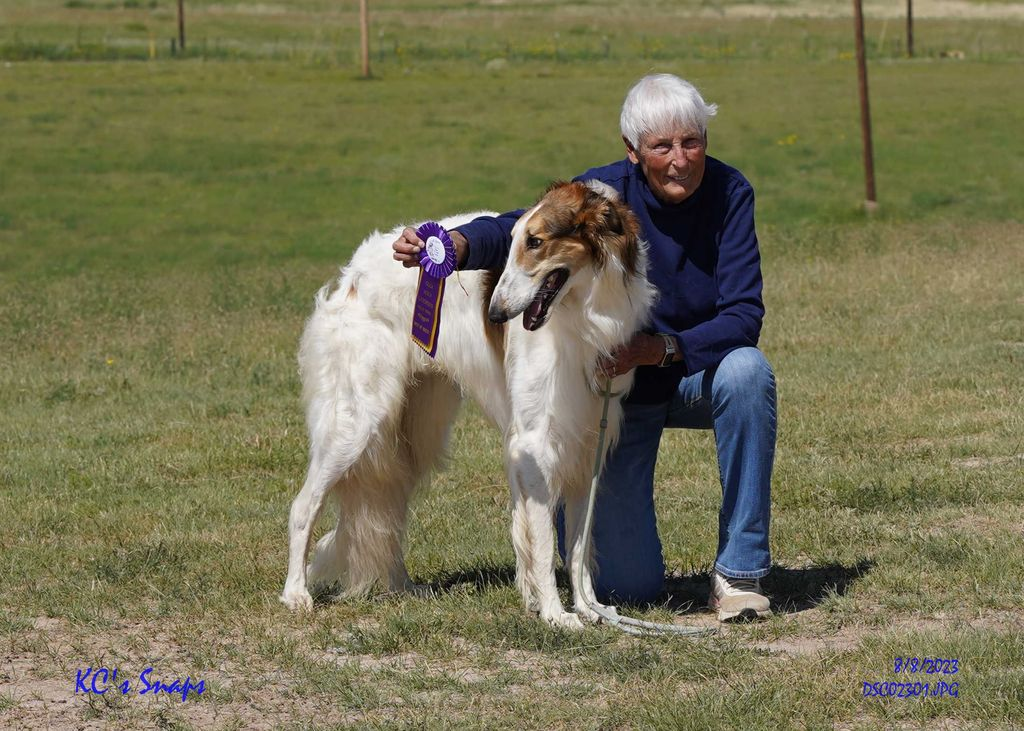borzoi: (266, 184, 652, 641)
